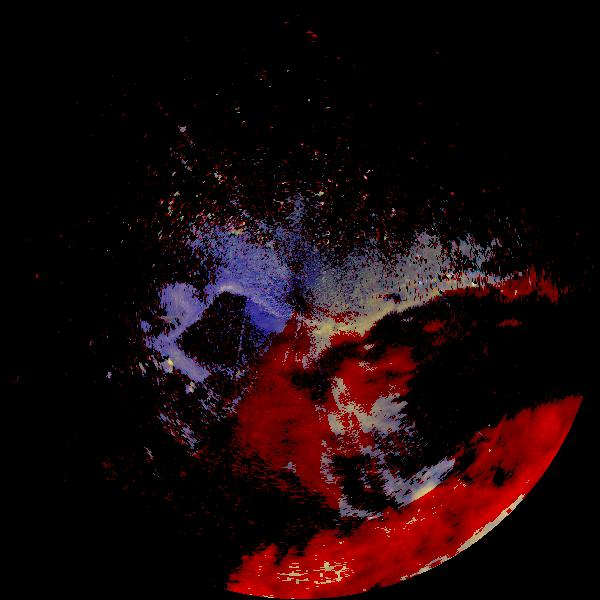roost: (157, 356, 178, 377), (184, 381, 199, 396), (104, 370, 116, 382)
